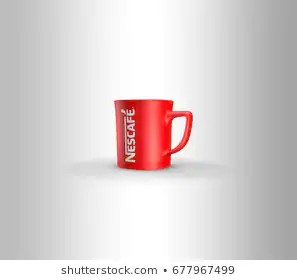nescafe-mug: (113, 94, 195, 174)
